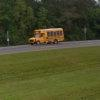Bus: (31, 25, 65, 45)
